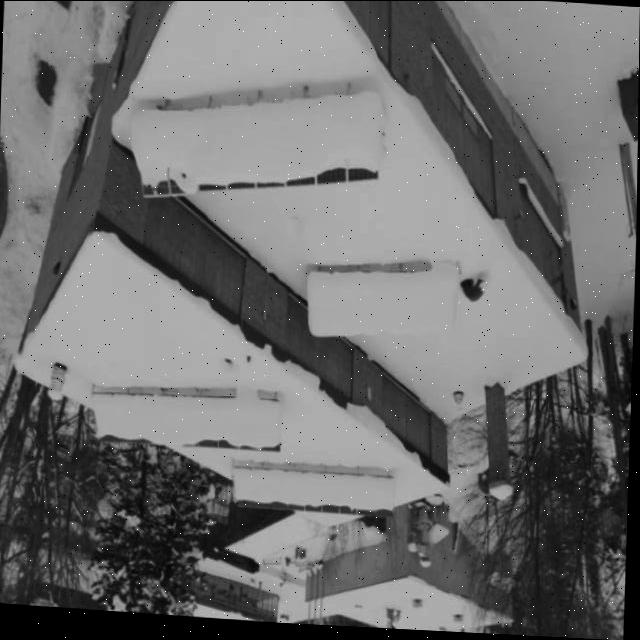Anomaly Solar Panel: (134, 93, 379, 202), (94, 392, 287, 458), (315, 267, 456, 347), (236, 467, 400, 518)
Snow: (135, 94, 378, 197), (308, 263, 458, 350), (94, 389, 285, 456), (237, 468, 400, 514)
